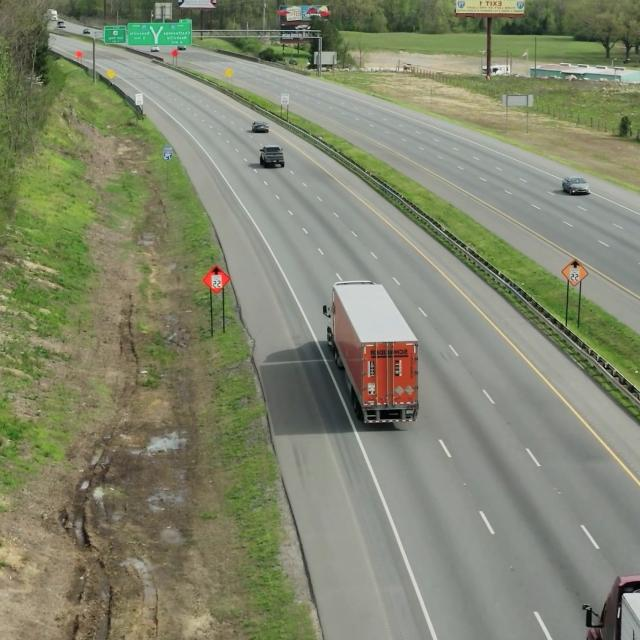Car: (320, 272, 424, 430), (555, 172, 592, 200), (254, 144, 286, 172)
